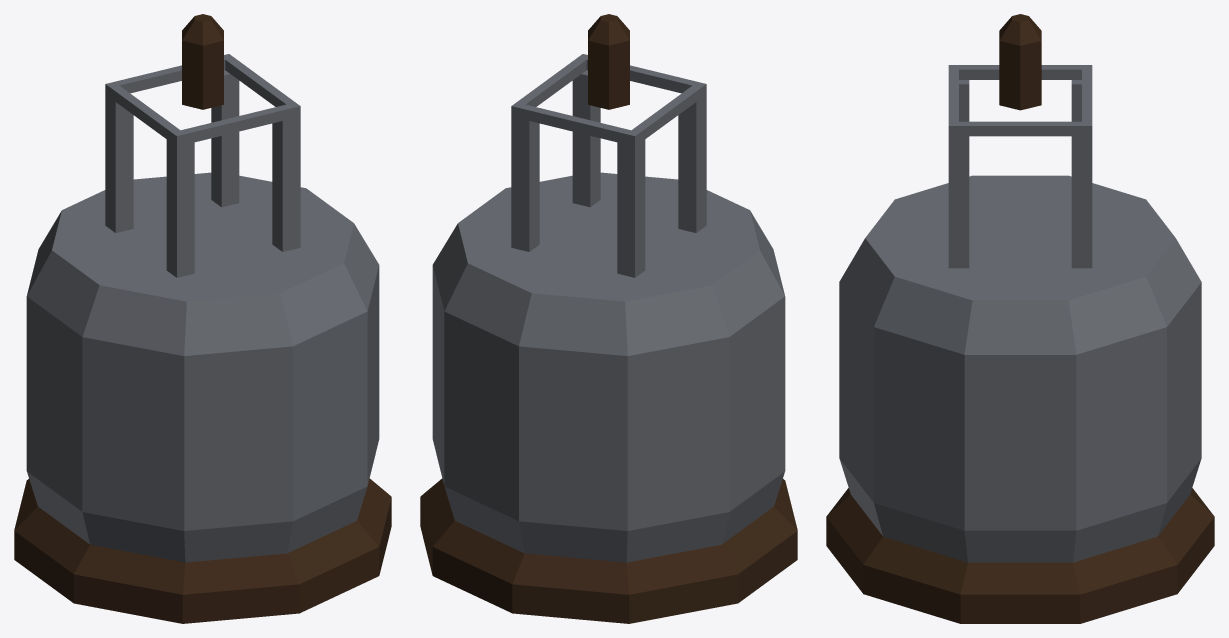
The model's file is SN_Buoy.glb.
3 renders of one model, left to right at view 1: azimuth 30°, elevation 25°; view 2: azimuth 150°, elevation 25°; view 3: azimuth 270°, elevation 25°, orthographic.
Parts seen in each view (by area): view 1: SN_Buoy; view 2: SN_Buoy; view 3: SN_Buoy.
Boxes of the visible parts, x1,y1,x2,y2 form: SN_Buoy: (14,14,391,623); SN_Buoy: (420,14,797,623); SN_Buoy: (826,14,1214,623).
Bounding box in the file's own units: 1.14 × 1.8 × 1.2.
